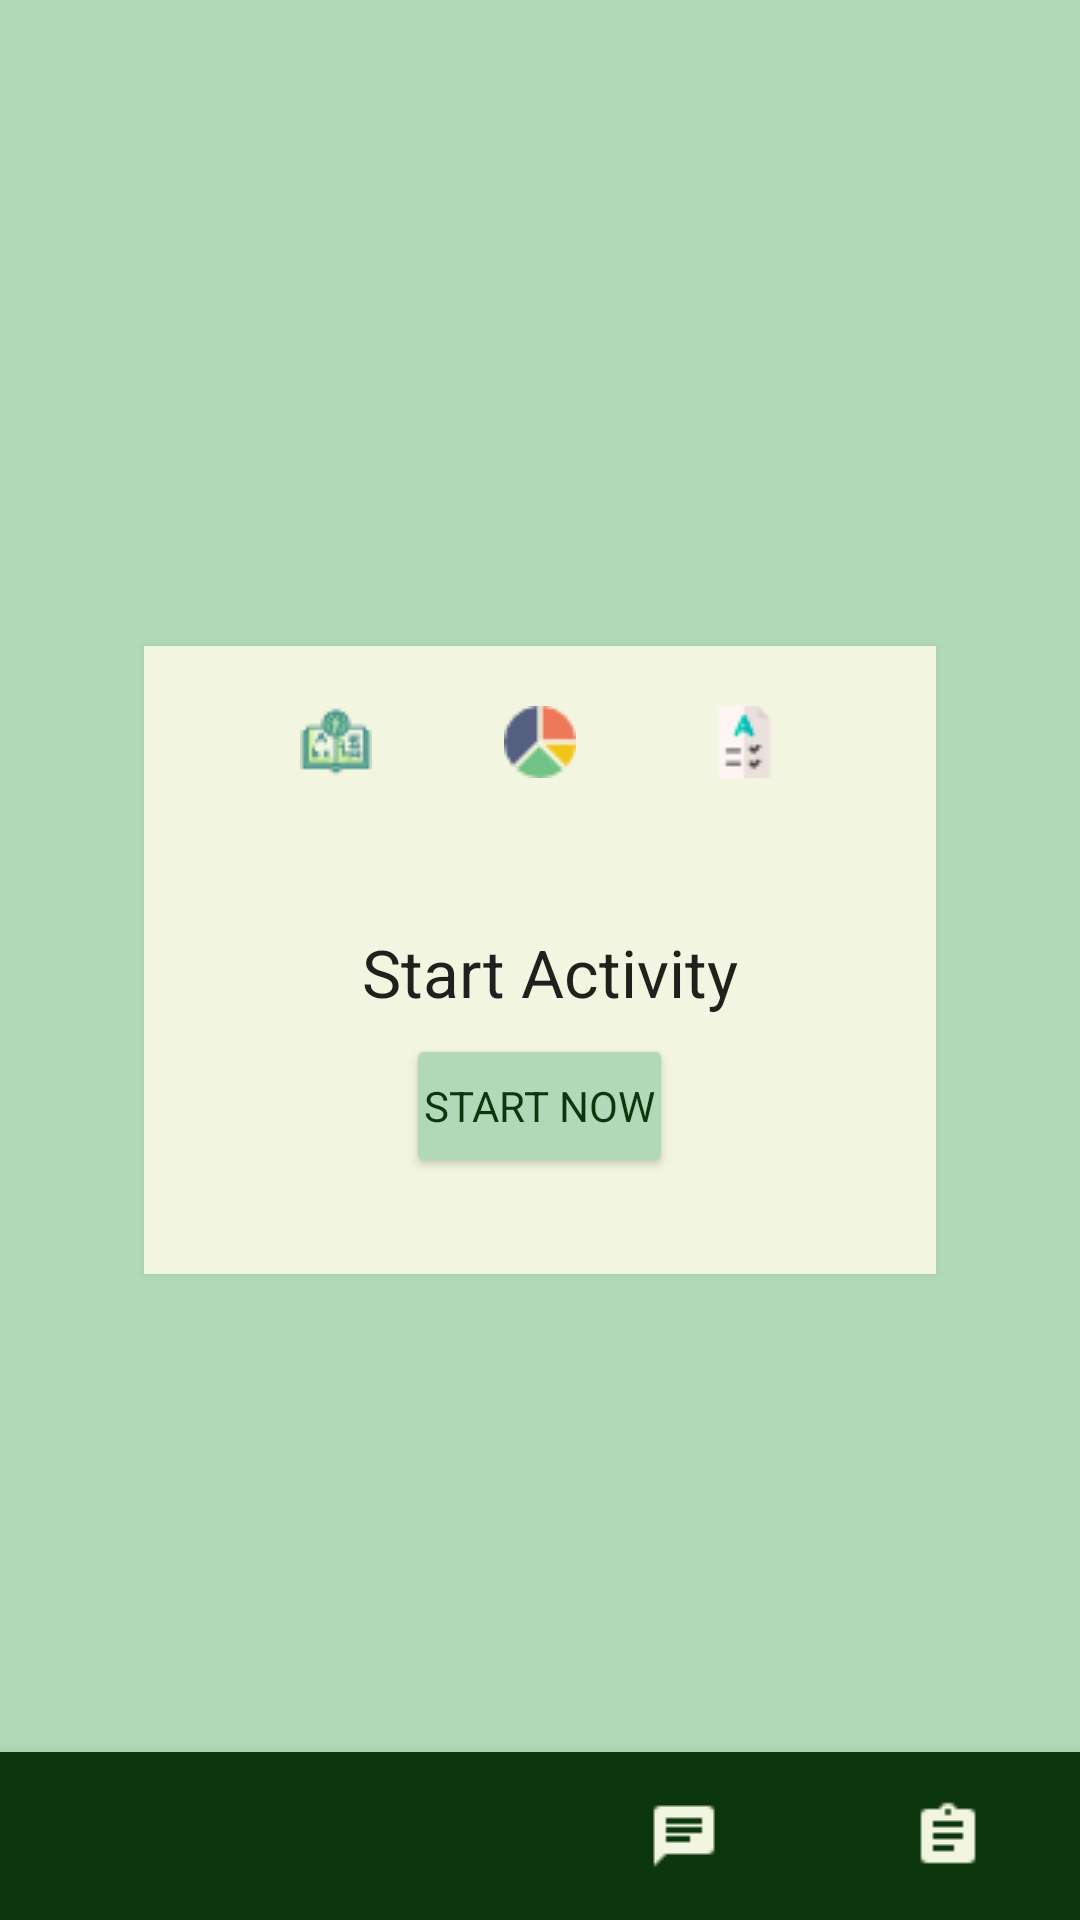

Point at icon controls on the screen. Image size 1080*1920, points as (x,y).
exam: (744,742)
pie chart: (540,742)
